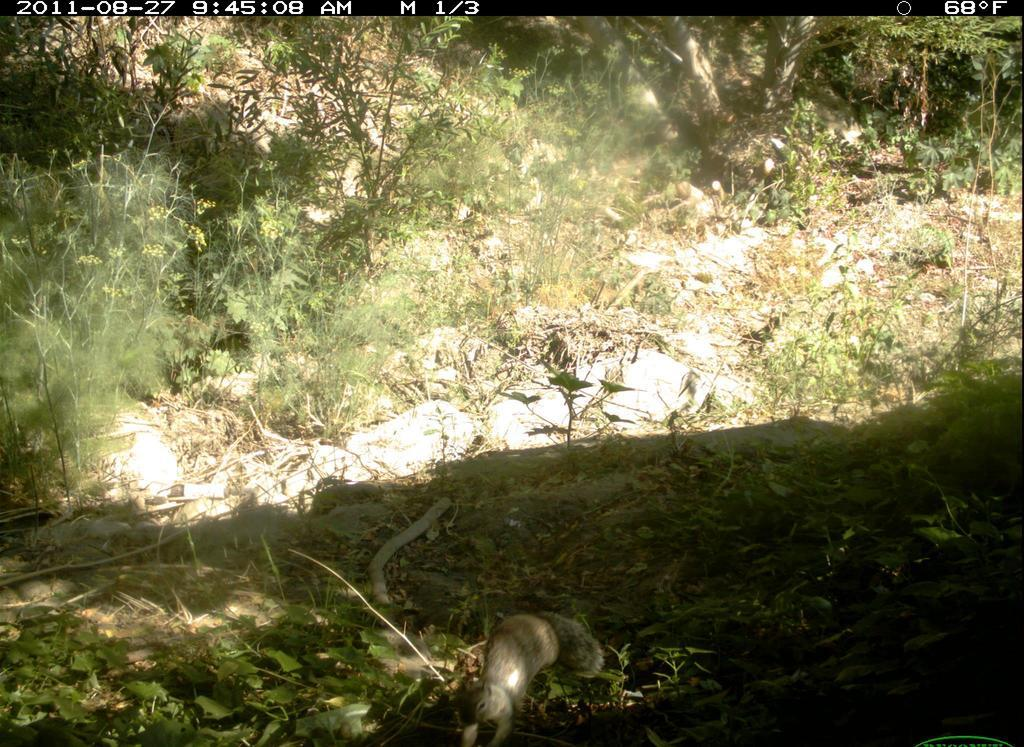squirrel: (450, 606, 606, 747)
